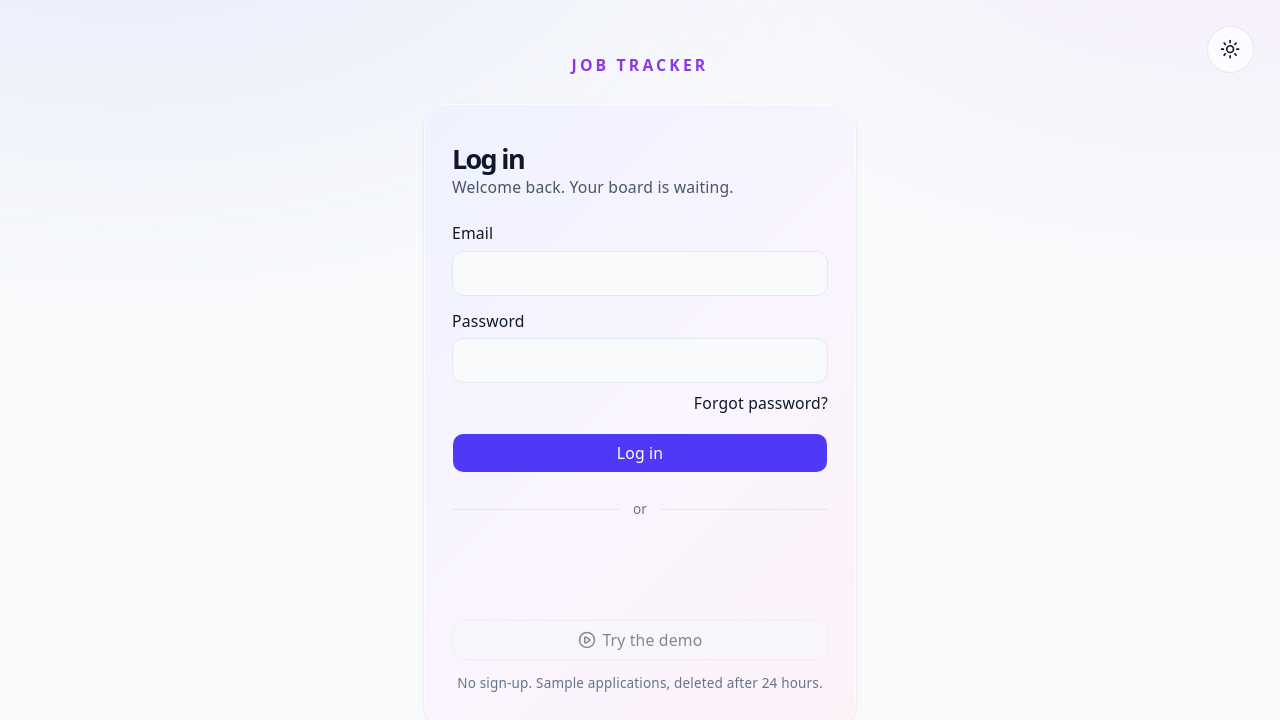
Test: authentication › logging in › shows the server message for a wrong password
Expected: the heading "Log in" is shown, [452,140,524,176]
In the field labelled "Email": (640, 273) [452,251,828,296], type "kamil@example.com"
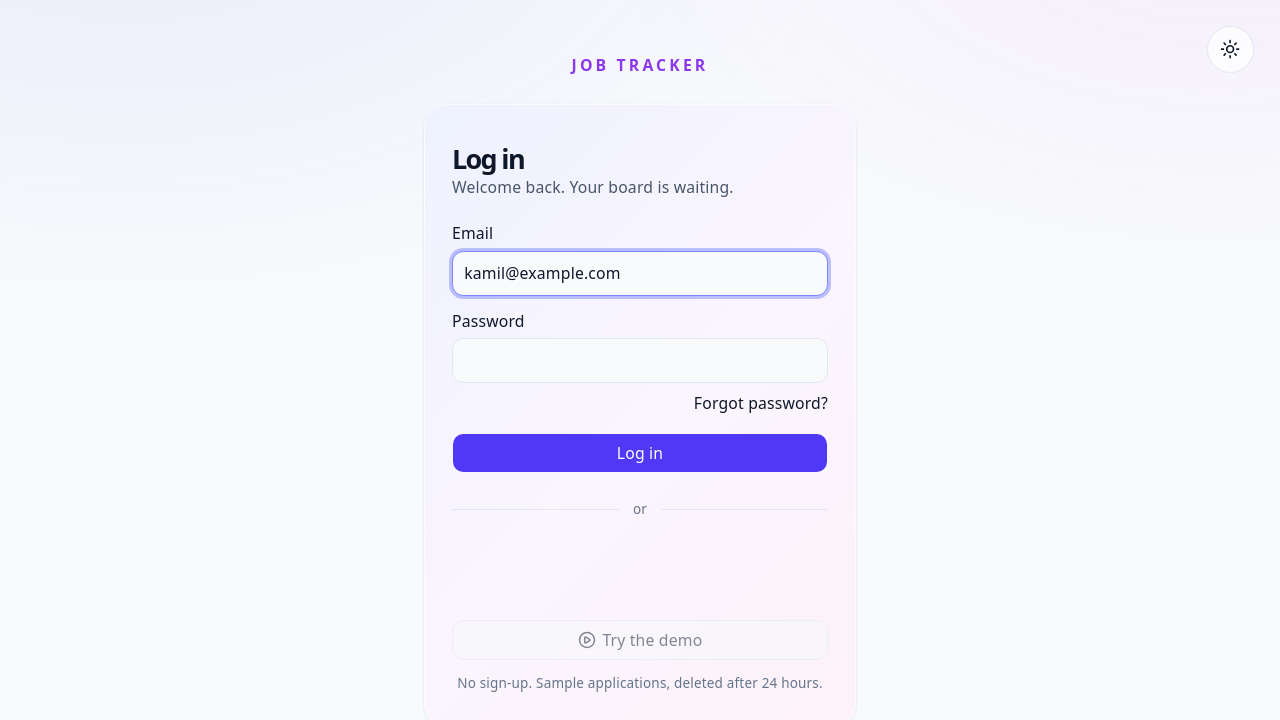
In the password field labelled "Password": (640, 361) [452,338,828,384], type "wrong password!!"
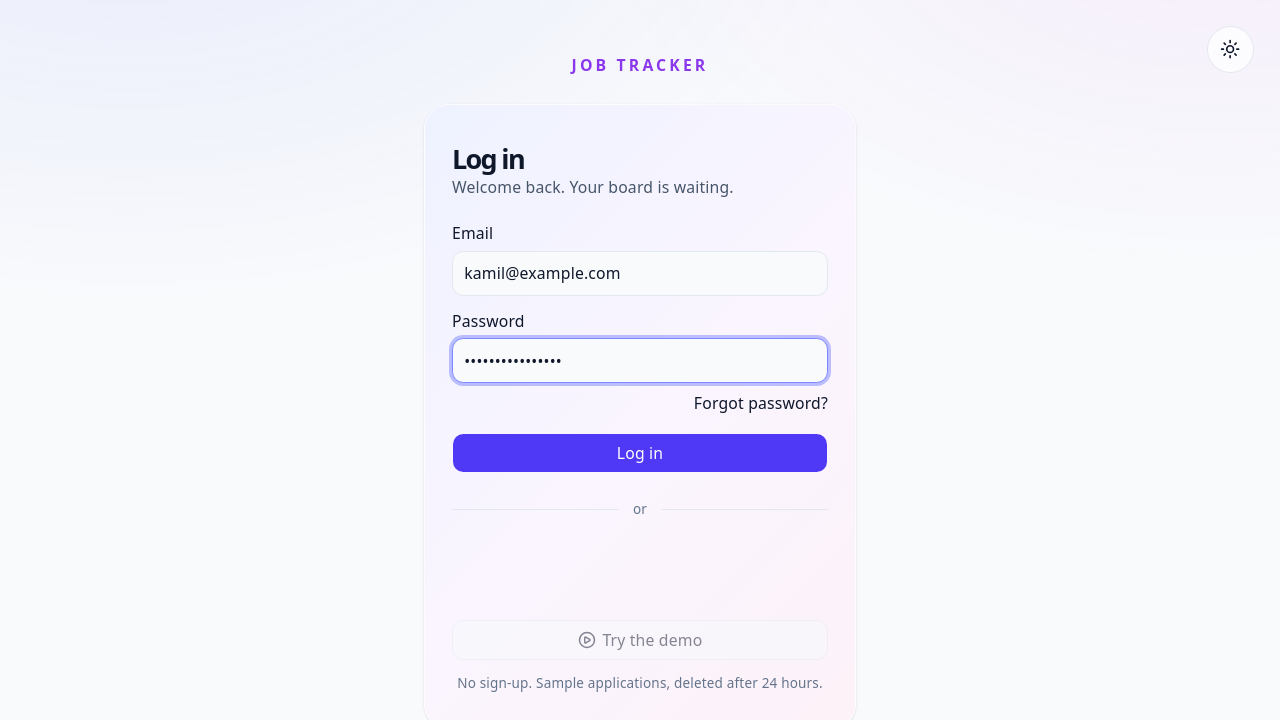
Click the button "Log in": (640, 453) [452,433,828,474]
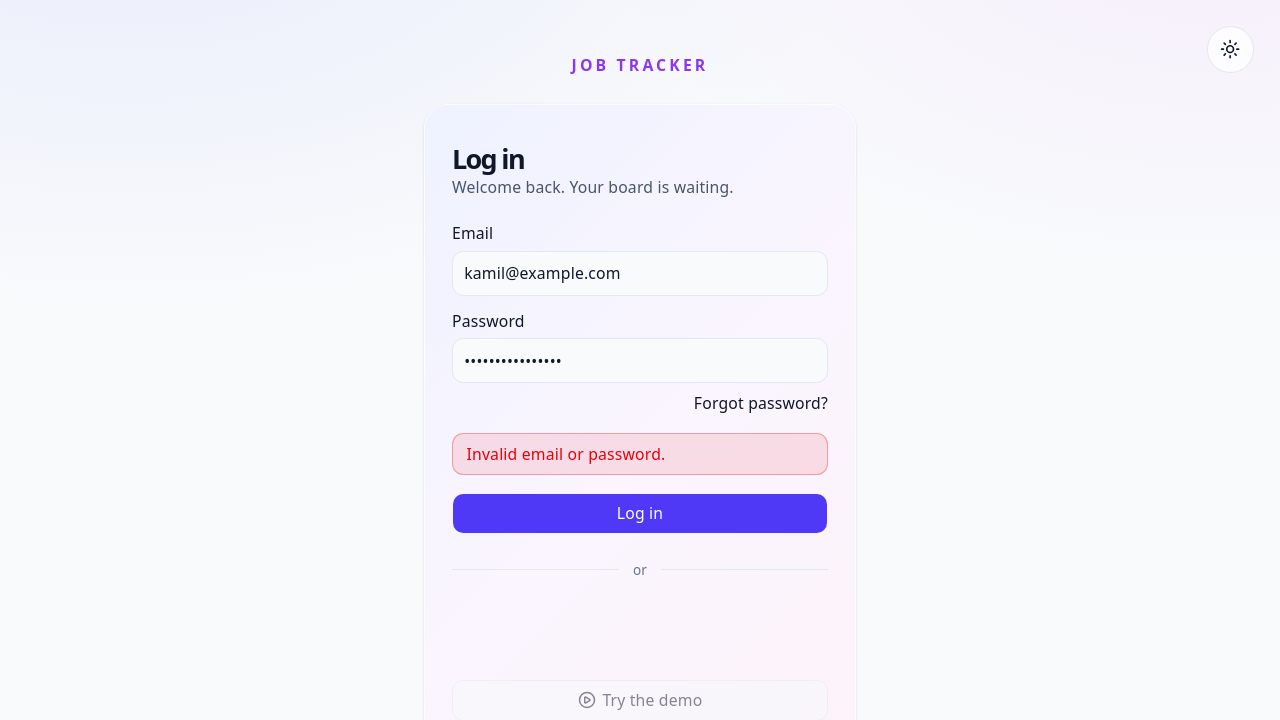
Expected: the message reads "Invalid email or password.", [466,443,665,465]
